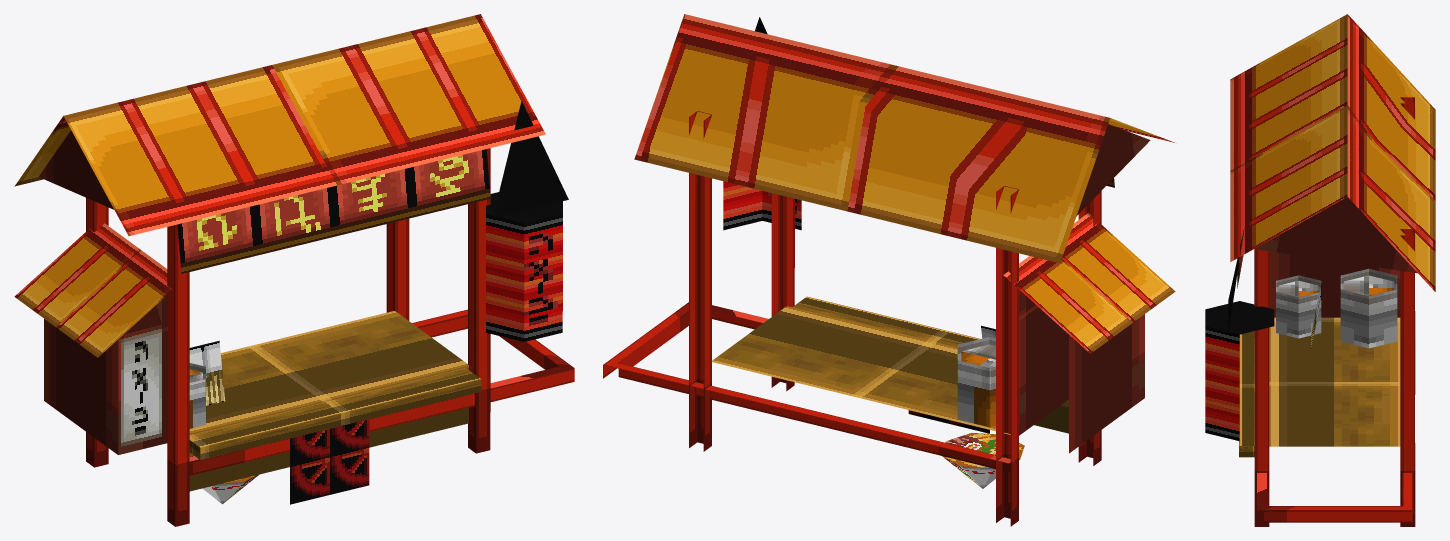
The picture shows the model from 3 angles, left to right: view 1: azimuth 30°, elevation 25°; view 2: azimuth 150°, elevation 25°; view 3: azimuth 270°, elevation 25°; orthographic projection. The views are drawn at different scales.
Visible parts, largest first — view 1: uma_yt_mise; view 2: uma_yt_mise; view 3: uma_yt_mise.
Boxes of the visible parts, <box> form: uma_yt_mise: <box>14,14,574,526</box>; uma_yt_mise: <box>603,14,1175,526</box>; uma_yt_mise: <box>1205,14,1435,526</box>.
Size of the model in its own units: 4.74 by 3.91 by 2.22.
Materials: 10 (10 with a texture image).
